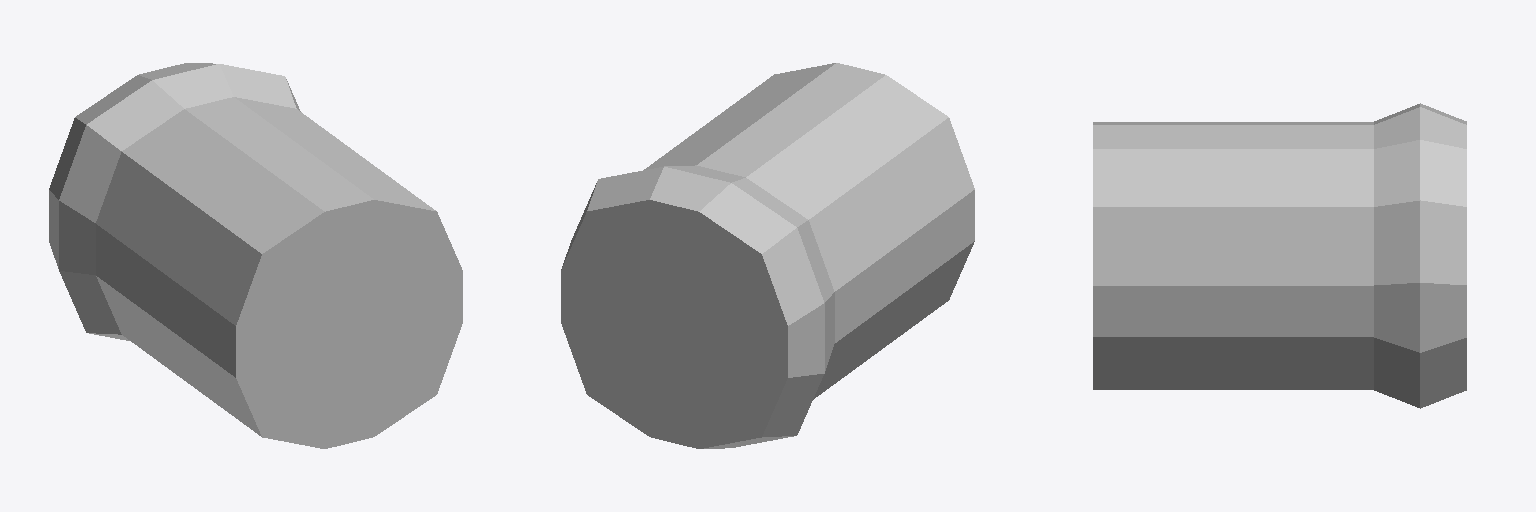
File: block-snow-narrow.obj
3 views of the same model, side by side, from view 1: azimuth 30°, elevation 25°; view 2: azimuth 150°, elevation 25°; view 3: azimuth 270°, elevation 25° (orthographic).
Parts seen in each view (by area): view 1: block-snow-narrow; view 2: block-snow-narrow; view 3: block-snow-narrow.
Boxes of the visible parts, <box> form: block-snow-narrow: <box>49,63,462,448</box>; block-snow-narrow: <box>561,63,974,448</box>; block-snow-narrow: <box>1093,103,1466,408</box>.
Bounding box in the file's own units: 0.7821 × 0.7821 × 1.